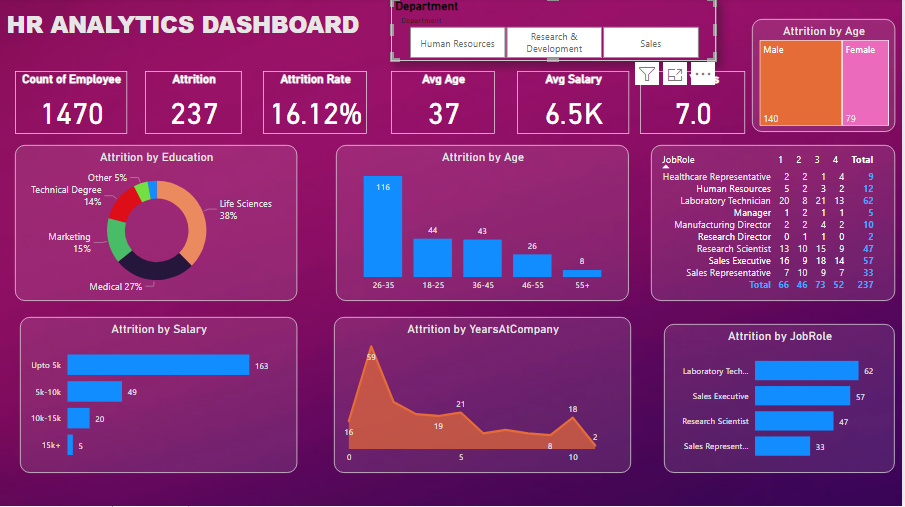

This screenshot's page, from the dashboard's own definition file:
{"tool":"powerbi","page":{"name":"Page 1","canvas":[1280,720],"ordinal":0},"visuals":[{"type":"card","title":"Count of Employee","fields":{"Values":["CountNonNull(HR_Analytics.EmpID)"]},"box":[22.7,103.5,158.7,89.3],"z":0},{"type":"card","title":"Attrition Rate","fields":{"Values":["HR_Analytics.AttritionRate"]},"box":[374.2,103.5,147.4,89.3],"z":1000},{"type":"card","title":"Attrition","fields":{"Values":["Sum(HR_Analytics.AttritionCount)"]},"box":[206.9,103.5,137.5,89.3],"z":2000},{"type":"card","title":"Avg Age ","fields":{"Values":["Avg(HR_Analytics.Age)"]},"box":[555.6,103.5,147.4,89.3],"z":3000},{"type":"card","title":"Avg Salary ","fields":{"Values":["Avg(HR_Analytics.MonthlyIncome)"]},"box":[734.2,103.5,158.7,89.3],"z":4000},{"type":"card","title":"Avg Years","fields":{"Values":["Avg(HR_Analytics.YearsAtCompany)"]},"box":[908.5,103.5,148.8,89.3],"z":5000},{"type":"donutChart","title":"Attrition by Education","fields":{"Category":["HR_Analytics.EducationField"],"Y":["Sum(HR_Analytics.AttritionCount)"]},"box":[22.7,208.3,399.7,221.1],"z":6000},{"type":"columnChart","title":"Attrition by Age","fields":{"Category":["HR_Analytics.AgeGroup"],"Y":["Sum(HR_Analytics.AttritionCount)"]},"box":[477.6,208.3,415.3,221.1],"z":7000},{"type":"pivotTable","fields":{"Rows":["HR_Analytics.JobRole"],"Columns":["HR_Analytics.JobSatisfaction"],"Values":["Sum(HR_Analytics.AttritionCount)"]},"box":[924.1,208.3,345.8,221.1],"z":8000},{"type":"barChart","title":"Attrition by Salary","fields":{"Category":["HR_Analytics.SalarySlab"],"Y":["Sum(HR_Analytics.AttritionCount)"]},"box":[29.8,452.1,392.6,221.1],"z":9000},{"type":"barChart","title":"Attrition by JobRole","fields":{"Category":["HR_Analytics.JobRole"],"Y":["Sum(HR_Analytics.AttritionCount)"]},"box":[942.5,462,327.4,211.2],"z":10000},{"type":"areaChart","title":"Attrition by YearsAtCompany","fields":{"Category":["HR_Analytics.YearsAtCompany"],"Y":["Sum(HR_Analytics.AttritionCount)"]},"box":[474.8,452.1,420.9,221.1],"z":11000},{"type":"treemap","title":"Attrition by Age","fields":{"Group":["HR_Analytics.Gender"],"Values":["Sum(HR_Analytics.AttritionCount)"]},"box":[1067.2,29.8,202.7,160.2],"z":12000},{"type":"slicer","title":"Department ","fields":{"Values":["HR_Analytics.Department"]},"box":[555.6,0,460.6,89.3],"z":13000},{"type":"textbox","box":[5.7,9.9,540,56.7],"z":14000}]}

Visuals, with their boxes in screenshot pixels (x1, y1, x2, y2), scaled from the page's 1280x720 canvas onto the 905x507 screenshot:
"Count of Employee" card: box=[16, 73, 128, 136]
"Attrition Rate" card: box=[265, 73, 369, 136]
"Attrition" card: box=[146, 73, 244, 136]
"Avg Age " card: box=[393, 73, 497, 136]
"Avg Salary " card: box=[519, 73, 631, 136]
"Avg Years" card: box=[642, 73, 748, 136]
"Attrition by Education" donutChart: box=[16, 147, 299, 302]
"Attrition by Age" columnChart: box=[338, 147, 631, 302]
pivotTable - HR_Analytics.JobRole x HR_Analytics.JobSatisfaction: box=[653, 147, 898, 302]
"Attrition by Salary" barChart: box=[21, 318, 299, 474]
"Attrition by JobRole" barChart: box=[666, 325, 898, 474]
"Attrition by YearsAtCompany" areaChart: box=[336, 318, 633, 474]
"Attrition by Age" treemap: box=[755, 21, 898, 134]
"Department " slicer: box=[393, 0, 718, 63]
textbox: box=[4, 7, 386, 47]
